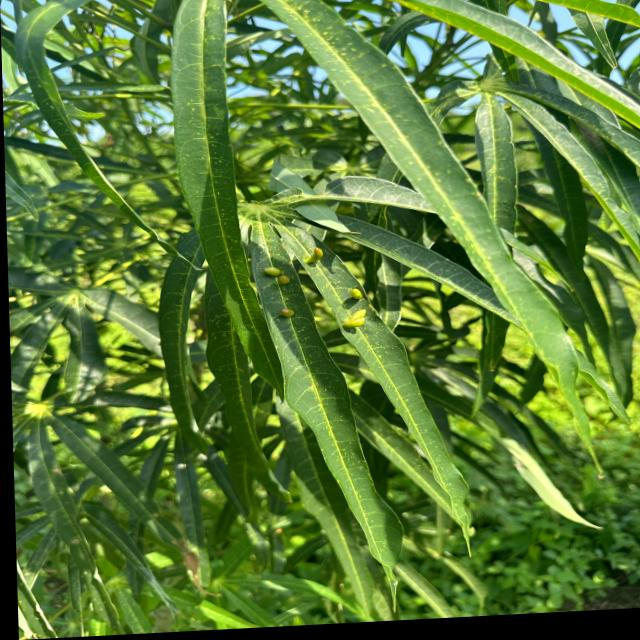Mosca: (340, 276, 376, 333), (260, 256, 293, 292), (268, 299, 303, 328), (297, 243, 329, 270)
